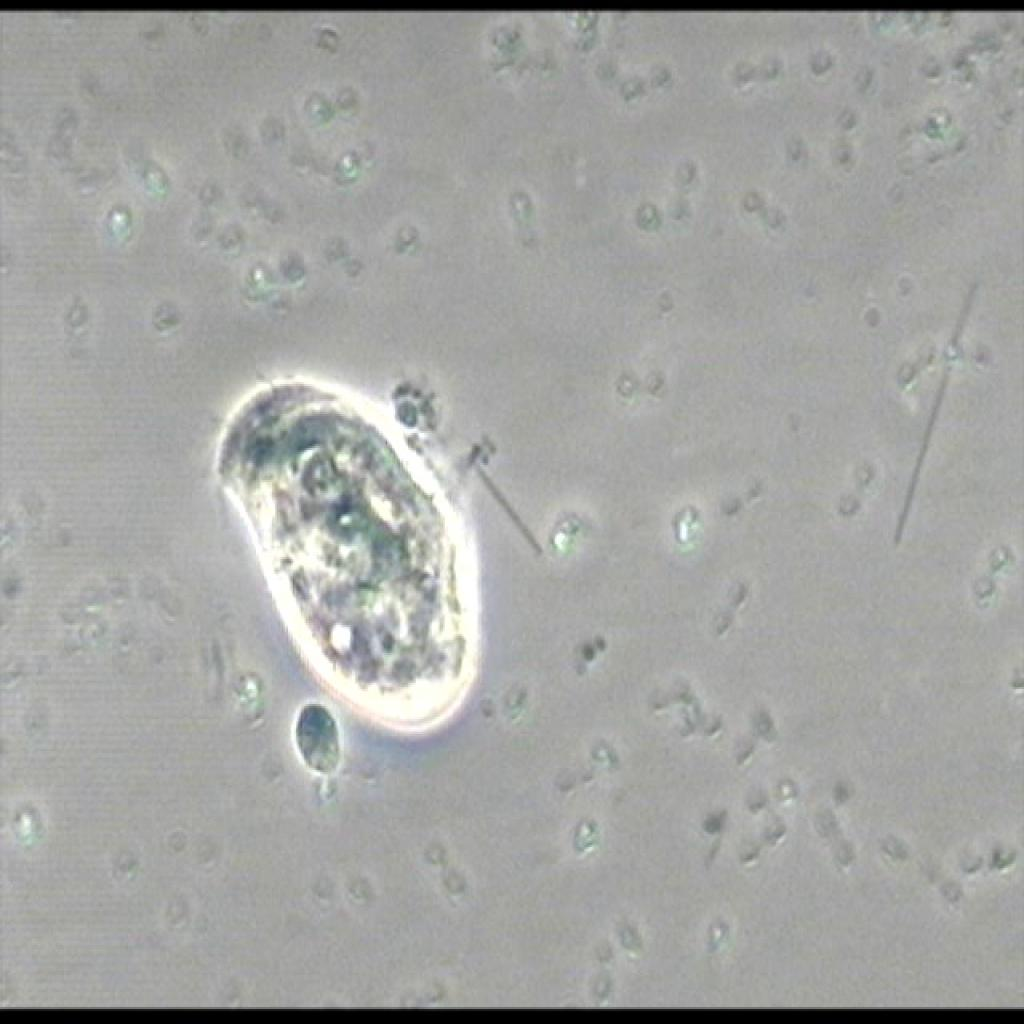Chilodonella: (165, 353, 501, 756)
